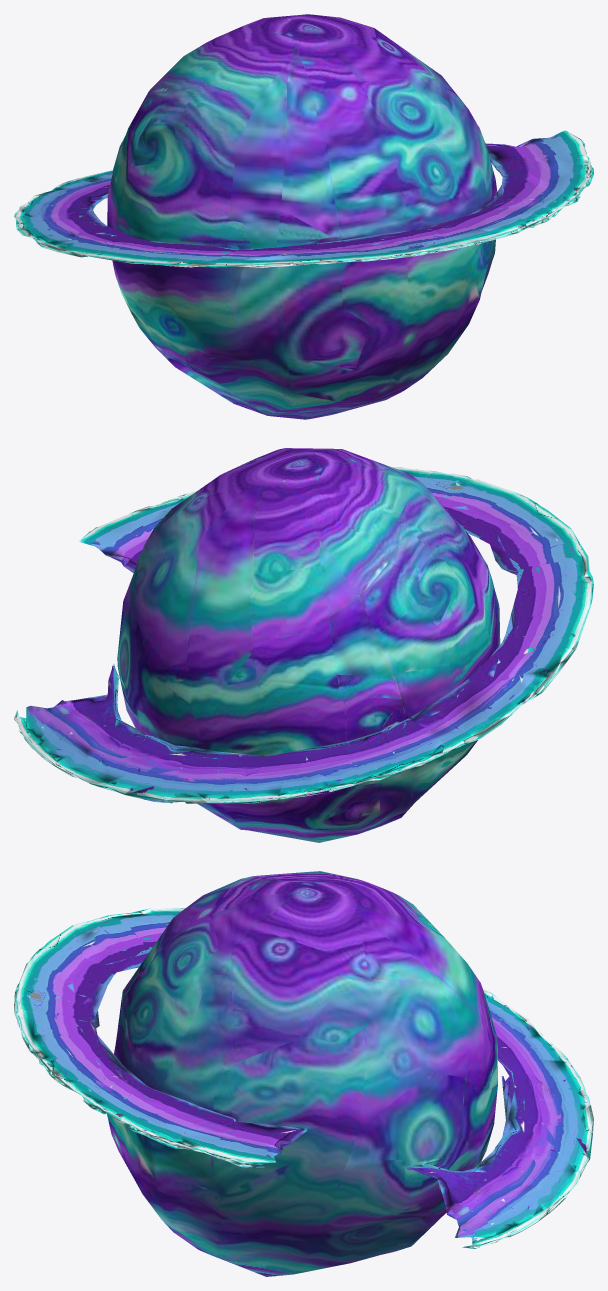
The model's file is gas-giant.glb.
The picture shows the model from 3 angles, top to bottom: view 1: azimuth 30°, elevation 25°; view 2: azimuth 150°, elevation 25°; view 3: azimuth 270°, elevation 25°; orthographic projection. The views are drawn at different scales.
Size of the model in its own units: 1.89 by 1.32 by 1.87.
1 material, 1 textured.
